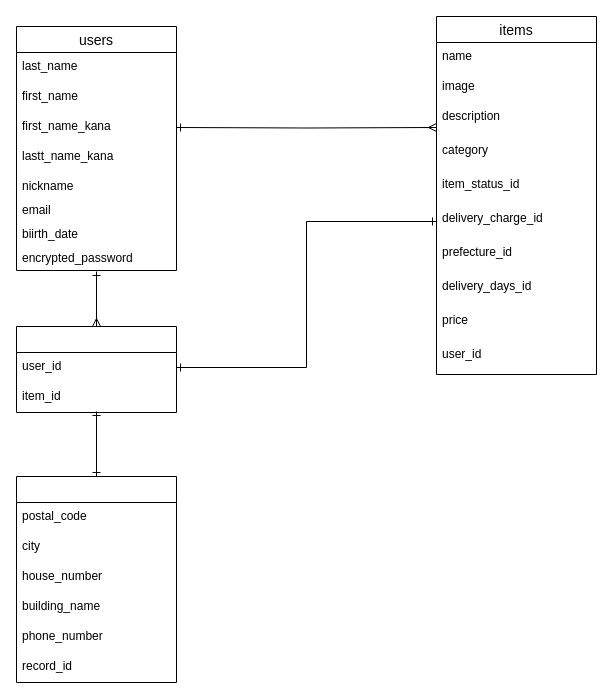
This 613x699 diagram has some shape labels left out. Here are the shapes that lost their labels. From the top down, the box of each, then its label:
(16, 326, 176, 412): records
(16, 476, 176, 682): delivery_addresses
